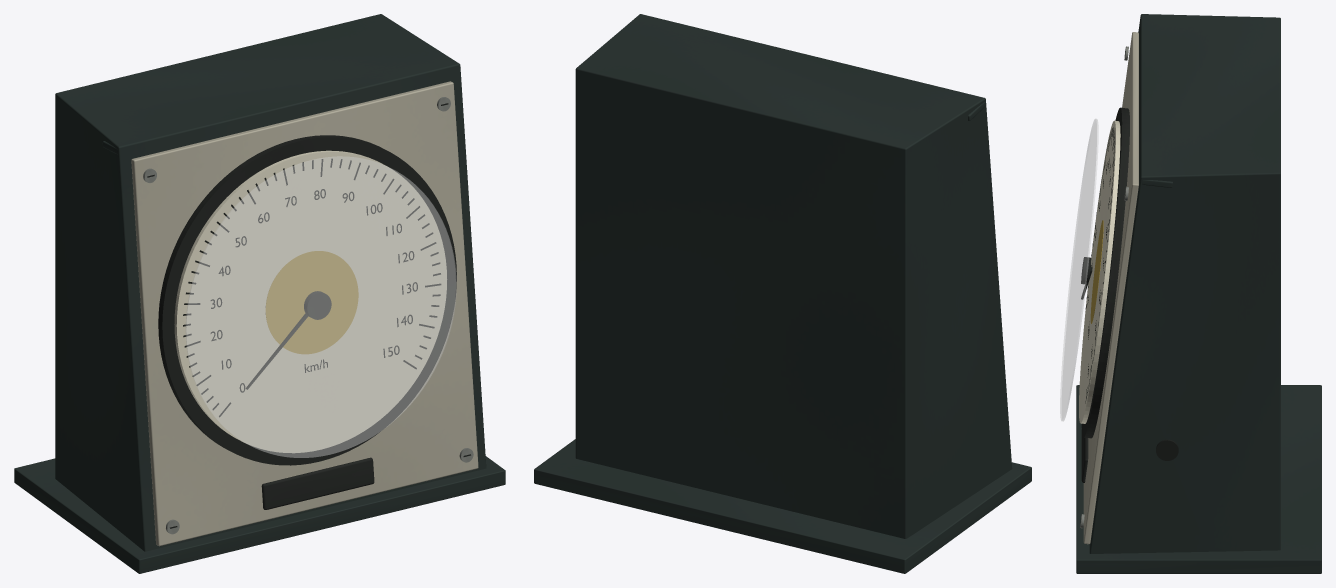
The model's file is speedometer_tapered_refined.glb.
3 views of the same model, side by side, from view 1: azimuth 30°, elevation 25°; view 2: azimuth 150°, elevation 25°; view 3: azimuth 270°, elevation 25° (orthographic). The views are drawn at different scales.
Parts seen in each view (by area): view 1: Fixed_Tapered_Rear_Housing, Fixed_Protective_Glass, Dial_Face, Fixed_Front_Metal_Panel, Dial_Dark_Bezel, Fixed_Foot, Dial_Yellow_Center, Fixed_Nameplate, Needle_Cap; view 2: Fixed_Tapered_Rear_Housing, Fixed_Foot; view 3: Fixed_Tapered_Rear_Housing, Fixed_Foot, Fixed_Front_Metal_Panel, Dial_Face, Fixed_Protective_Glass, Dial_Dark_Bezel, Dial_Yellow_Center, Side_Service_Plug.
Part boxes in pixels (box(x1,y1,x2,y2)): Fixed_Tapered_Rear_Housing: box(55, 14, 486, 551); Fixed_Protective_Glass: box(186, 156, 456, 457); Dial_Face: box(174, 150, 446, 453); Fixed_Front_Metal_Panel: box(131, 81, 478, 546); Dial_Dark_Bezel: box(158, 135, 456, 465); Fixed_Foot: box(14, 456, 505, 573); Dial_Yellow_Center: box(265, 251, 358, 354); Fixed_Nameplate: box(261, 457, 374, 509); Needle_Cap: box(304, 291, 331, 319); Fixed_Tapered_Rear_Housing: box(575, 14, 1012, 538); Fixed_Foot: box(534, 439, 1031, 573); Fixed_Tapered_Rear_Housing: box(1089, 14, 1280, 553); Fixed_Foot: box(1076, 385, 1321, 573); Fixed_Front_Metal_Panel: box(1083, 32, 1138, 544); Dial_Face: box(1079, 120, 1120, 423); Fixed_Protective_Glass: box(1060, 119, 1098, 421); Dial_Dark_Bezel: box(1081, 107, 1129, 438); Dial_Yellow_Center: box(1090, 220, 1103, 323); Side_Service_Plug: box(1156, 439, 1178, 460).
Bounding box in the file's own units: 0.1824 × 0.19 × 0.1152.
8 materials, 5 textured.
